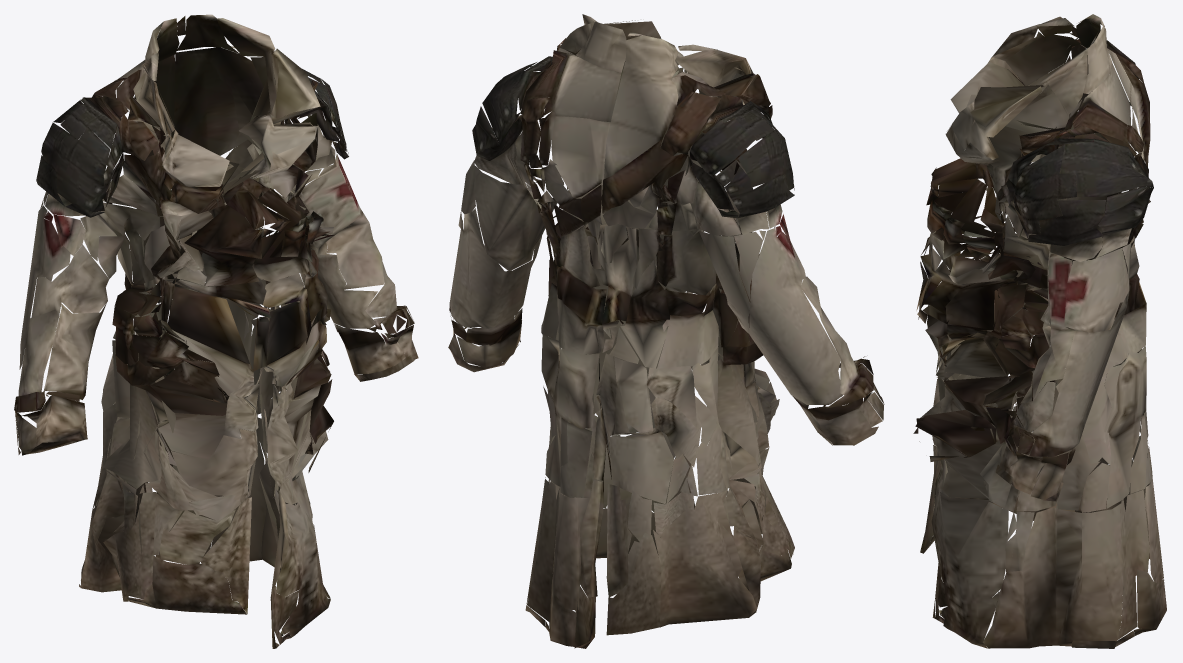
The model's file is a_ward_coat_sera.glb.
The picture shows the model from 3 angles, left to right: view 1: azimuth 30°, elevation 25°; view 2: azimuth 150°, elevation 25°; view 3: azimuth 270°, elevation 25°; orthographic projection. The views are drawn at different scales.
Visible parts, largest first — view 1: tripo_node_2e97382c-2fde-45fd-889a-63a90244399b; view 2: tripo_node_2e97382c-2fde-45fd-889a-63a90244399b; view 3: tripo_node_2e97382c-2fde-45fd-889a-63a90244399b.
Boxes of the visible parts, box(x1,y1,x2,y2) form: tripo_node_2e97382c-2fde-45fd-889a-63a90244399b: box(14, 14, 418, 648); tripo_node_2e97382c-2fde-45fd-889a-63a90244399b: box(448, 14, 884, 648); tripo_node_2e97382c-2fde-45fd-889a-63a90244399b: box(913, 14, 1166, 648).
Bounding box in the file's own units: 0.7448 × 1.02 × 0.4017.
Materials: 1 (1 with a texture image).
